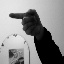g: (8, 7, 40, 37)
